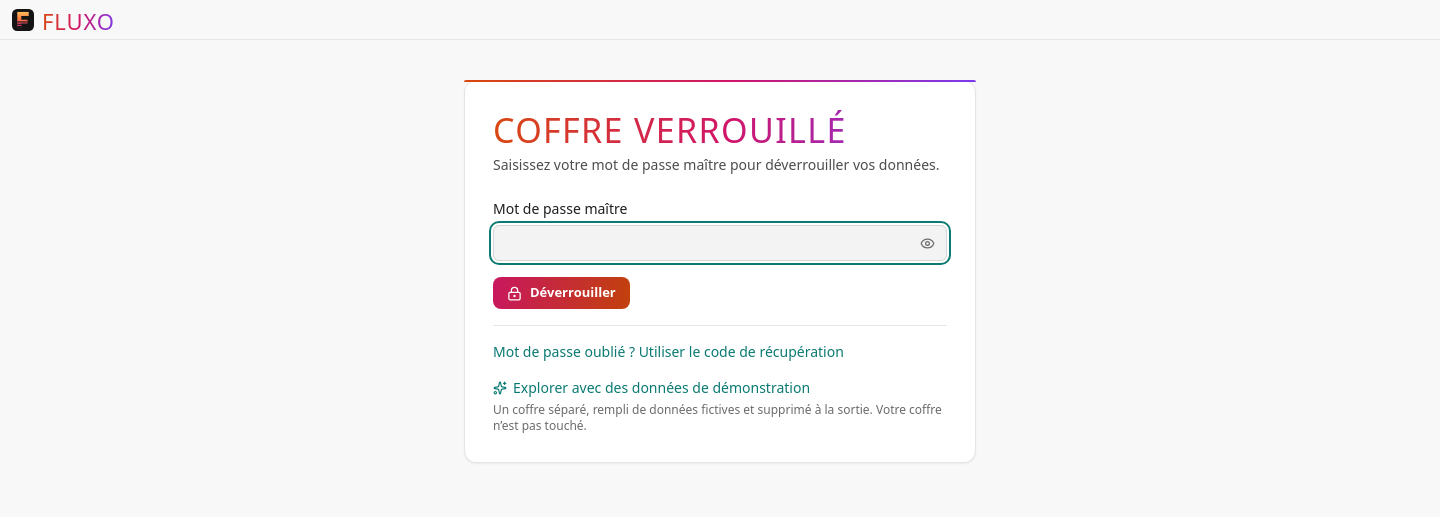
it: VaultGate — déverrouillage › mot de passe faux, puis délai imposé
Type "pas le bon" into the password field labelled "Mot de passe maître" at (720, 243), box left=493, top=225, right=947, bottom=261
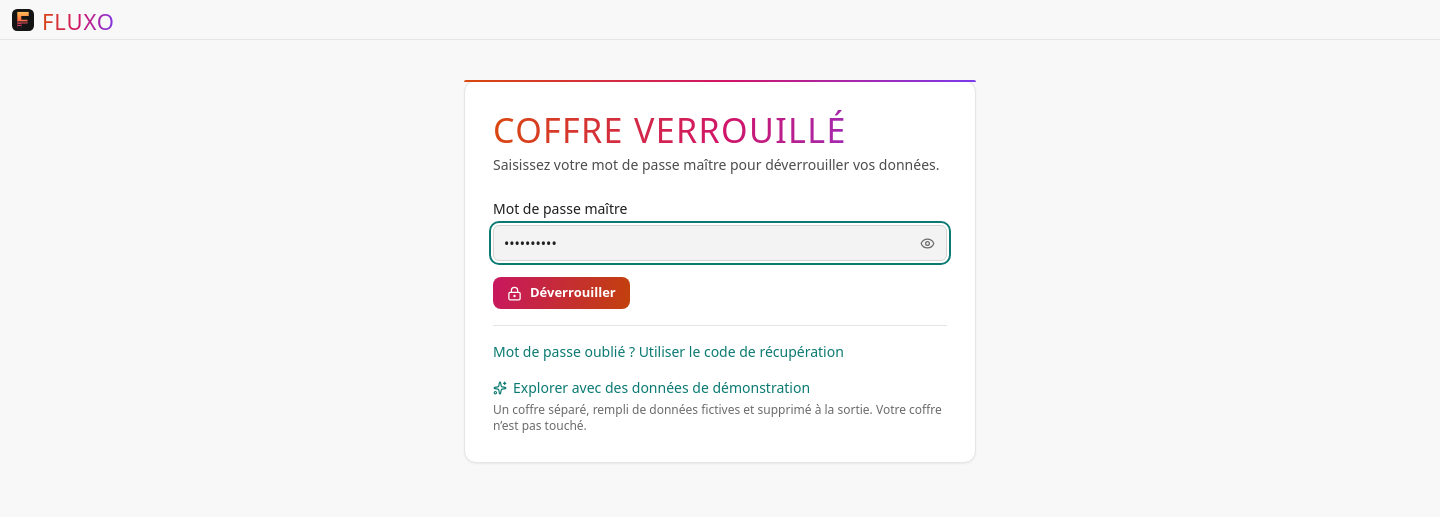
Click the button "Déverrouiller" at (561, 293), box left=493, top=277, right=630, bottom=309
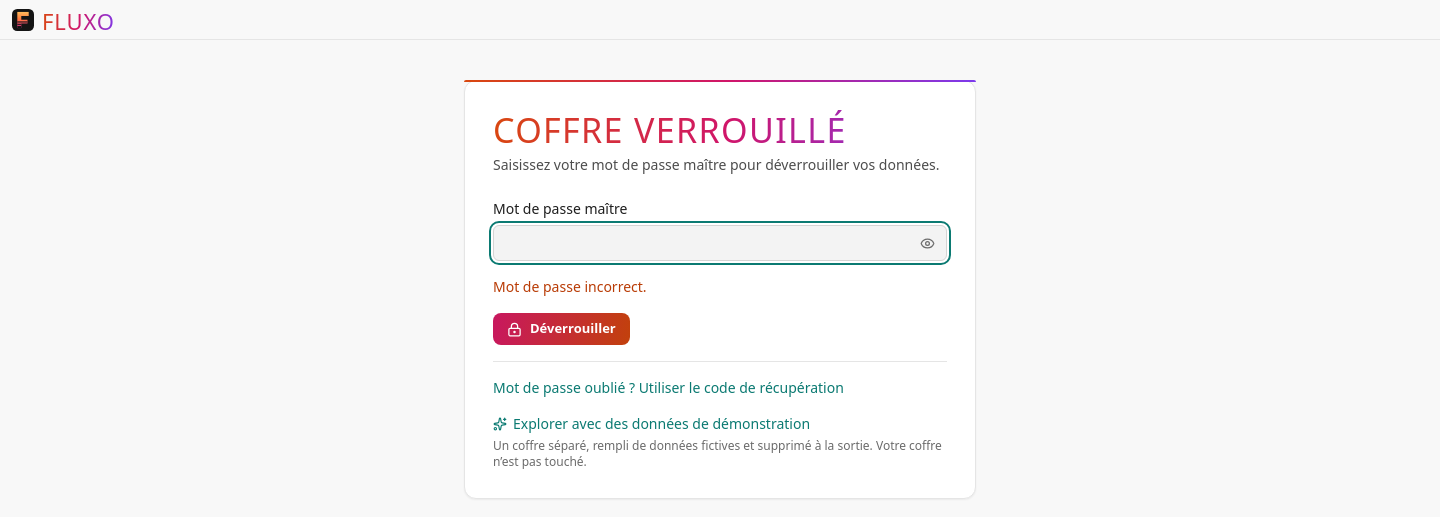
Now the message shows "Mot de passe incorrect", box left=493, top=277, right=647, bottom=296
Type "encore" into the password field labelled "Mot de passe maître" at (720, 243), box left=493, top=225, right=947, bottom=261
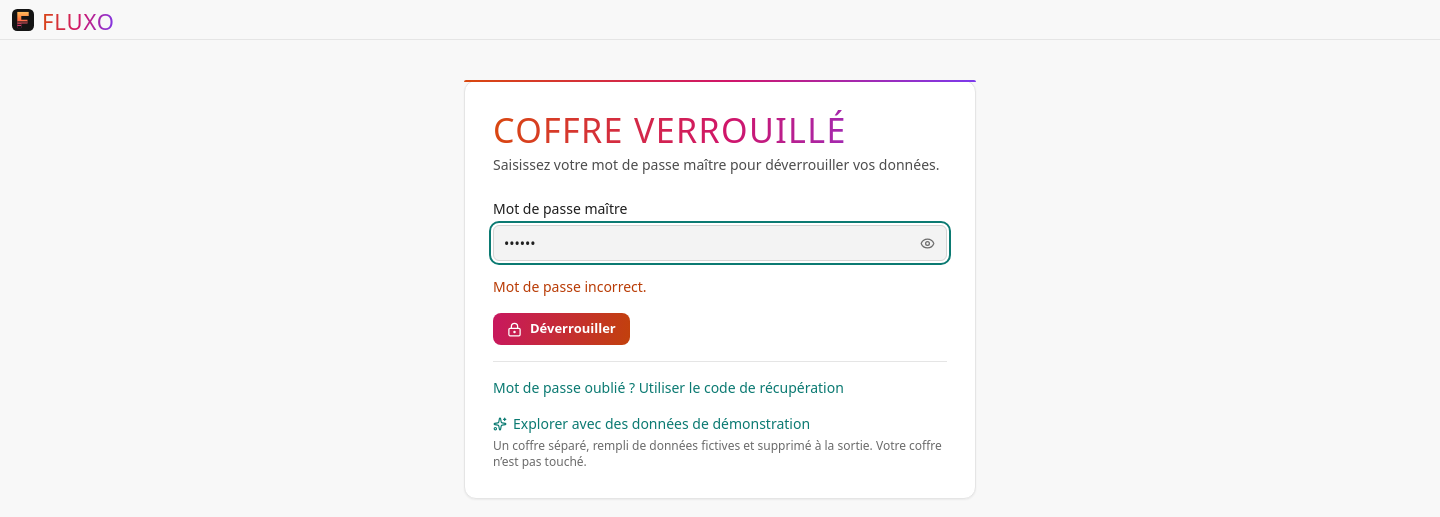
Click the button "Déverrouiller" at (561, 329), box left=493, top=313, right=630, bottom=345
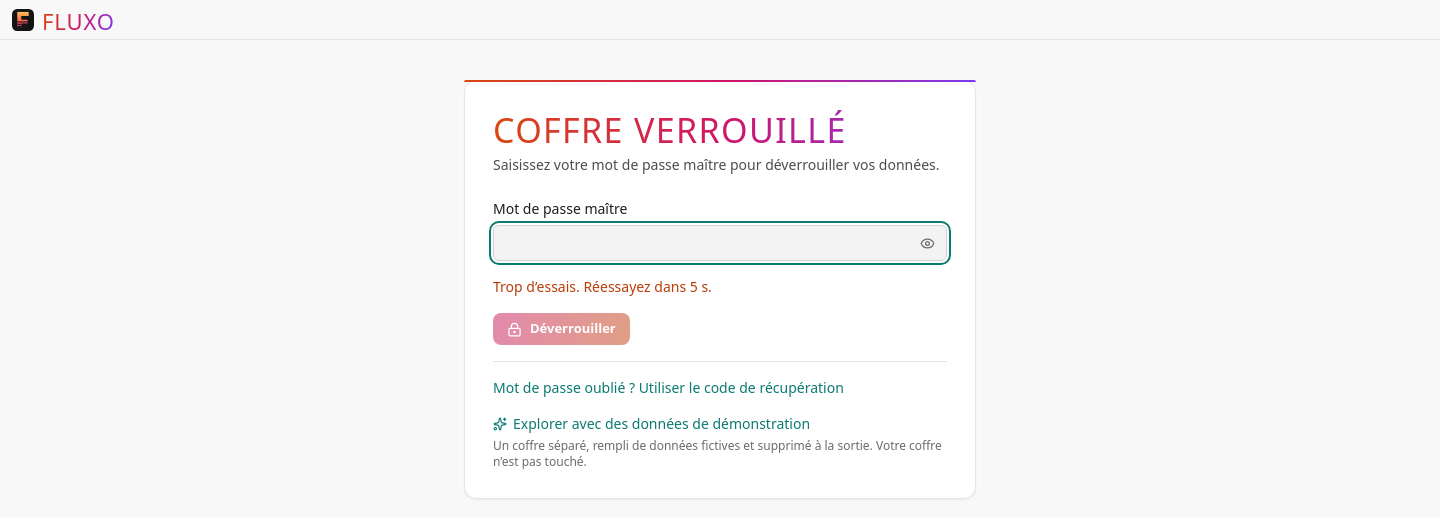
Now the message shows "Trop d’essais", box left=493, top=277, right=712, bottom=296
Now the button "Déverrouiller" is disabled, box left=493, top=313, right=630, bottom=345
